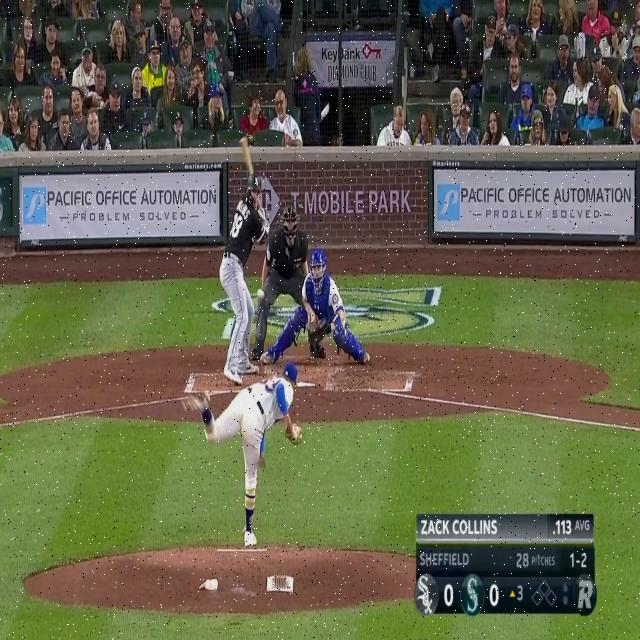baseball: (256, 286, 266, 300)
